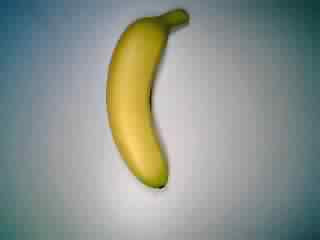banana: (99, 6, 192, 190)
